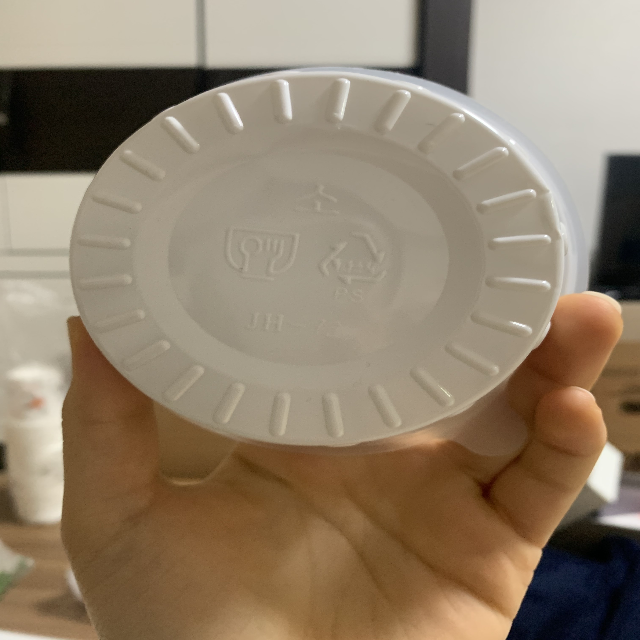ps: (313, 223, 390, 301)
